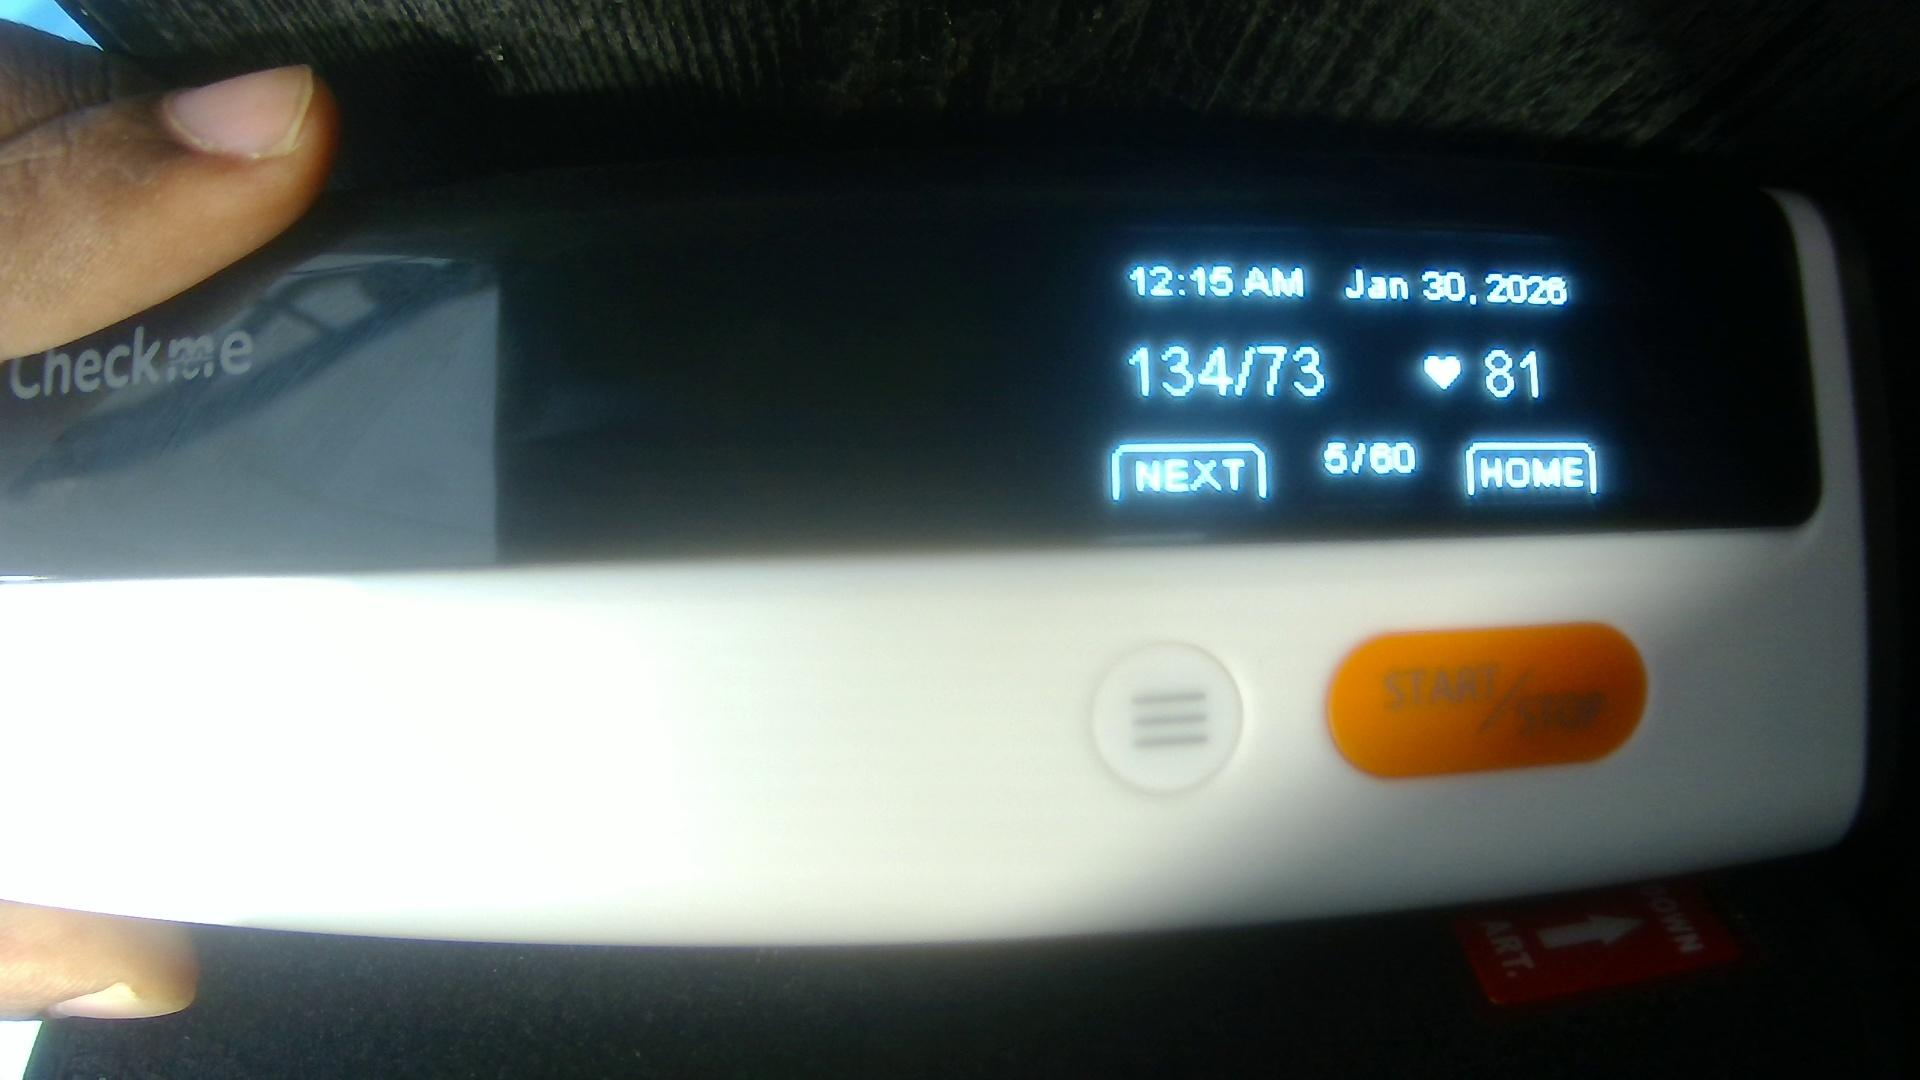DISPLAY: (278, 195, 1807, 578)
